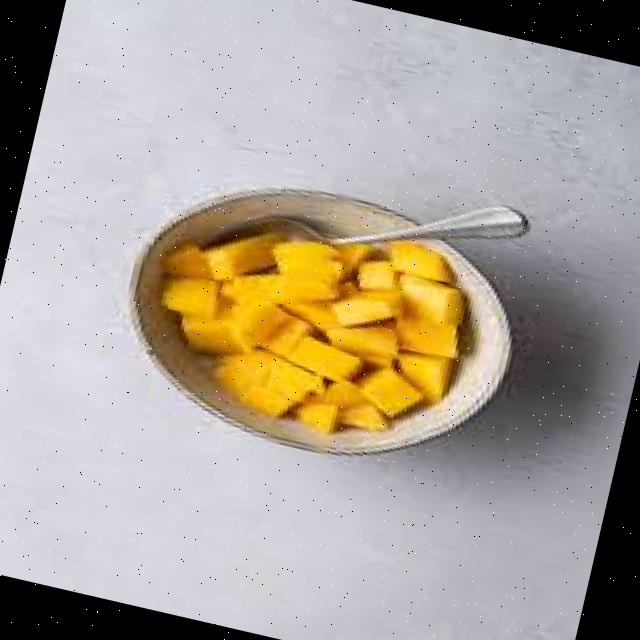mango: (165, 233, 513, 438)
